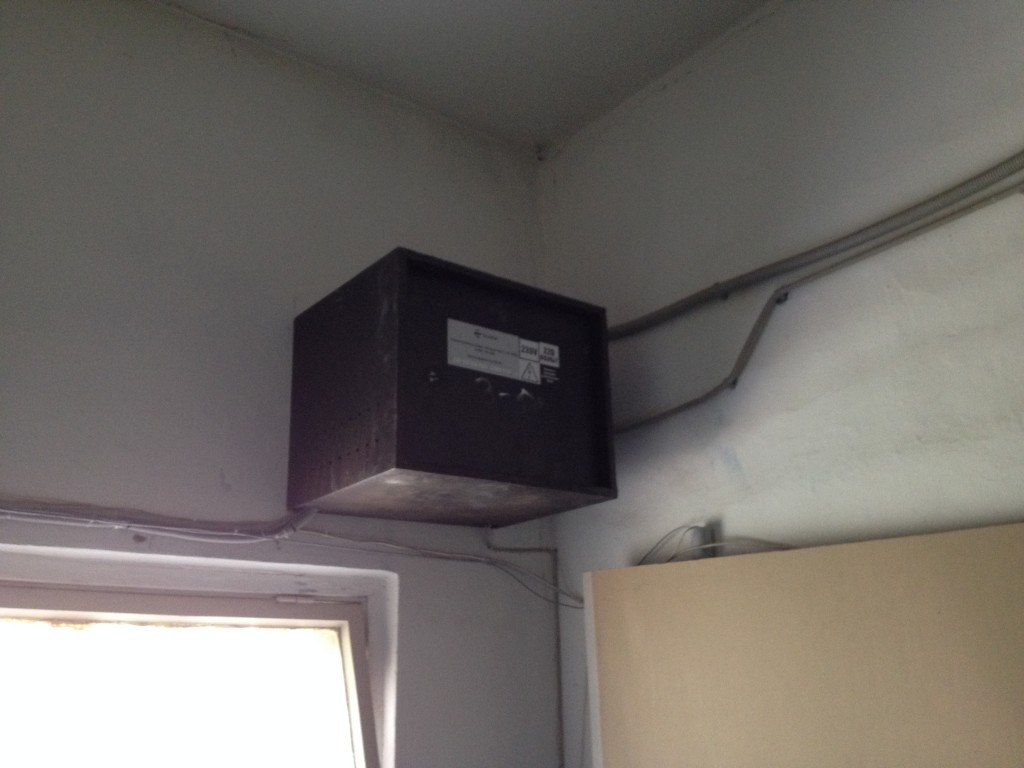shta-9m: (275, 236, 631, 532)
